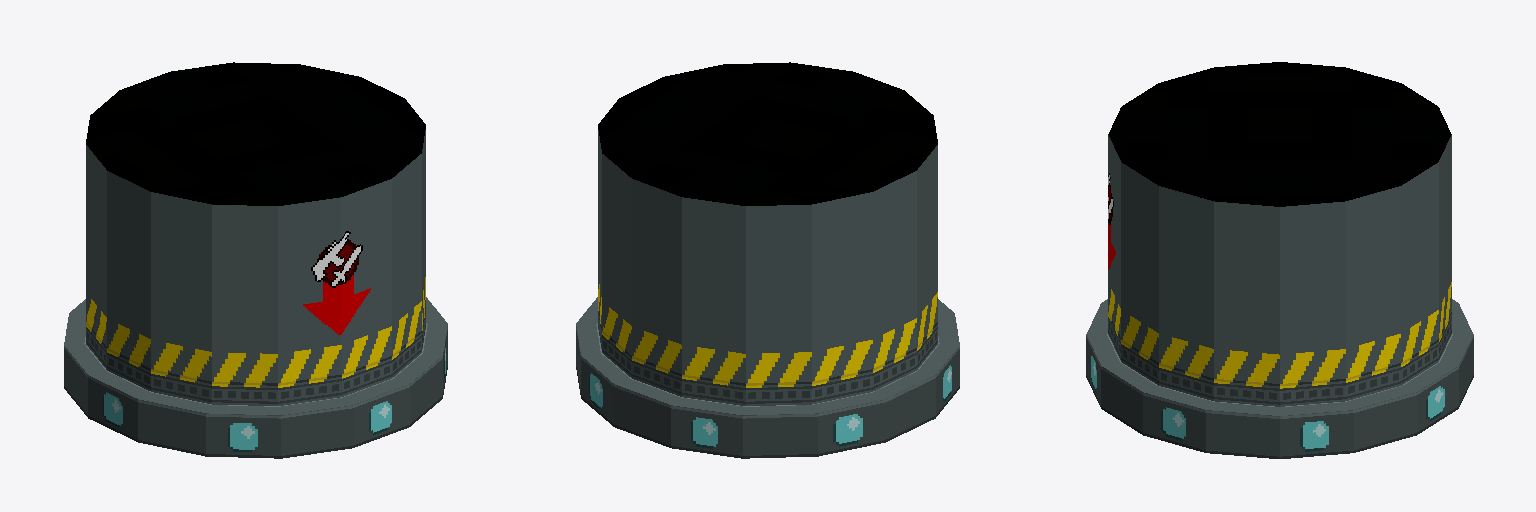
3 renders of one model, left to right at view 1: azimuth 30°, elevation 25°; view 2: azimuth 150°, elevation 25°; view 3: azimuth 270°, elevation 25°, orthographic.
Parts seen in each view (by area): view 1: weapon_pickup_Cylinder; view 2: weapon_pickup_Cylinder; view 3: weapon_pickup_Cylinder.
Boxes of the visible parts, box(x1,y1,x2,y2) form: weapon_pickup_Cylinder: box(64, 62, 447, 458); weapon_pickup_Cylinder: box(576, 62, 959, 458); weapon_pickup_Cylinder: box(1086, 62, 1473, 458).
Bounding box in the file's own units: 3.98 × 2.76 × 3.98.
Materials: 1 (1 with a texture image).